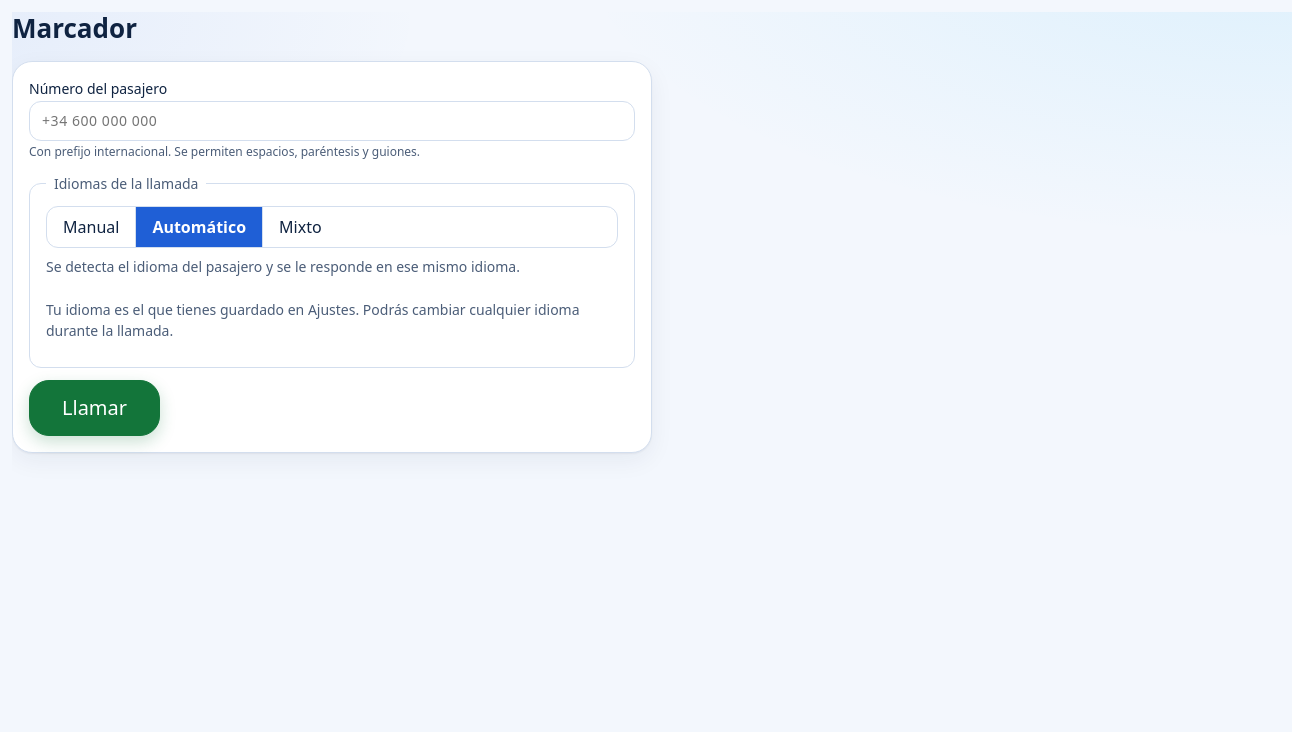
Test: <Dialer> › offers only the languages the catalogue confirms for each role
Click the radio button labelled "Manual" at (92, 226), box [47, 206, 136, 246]
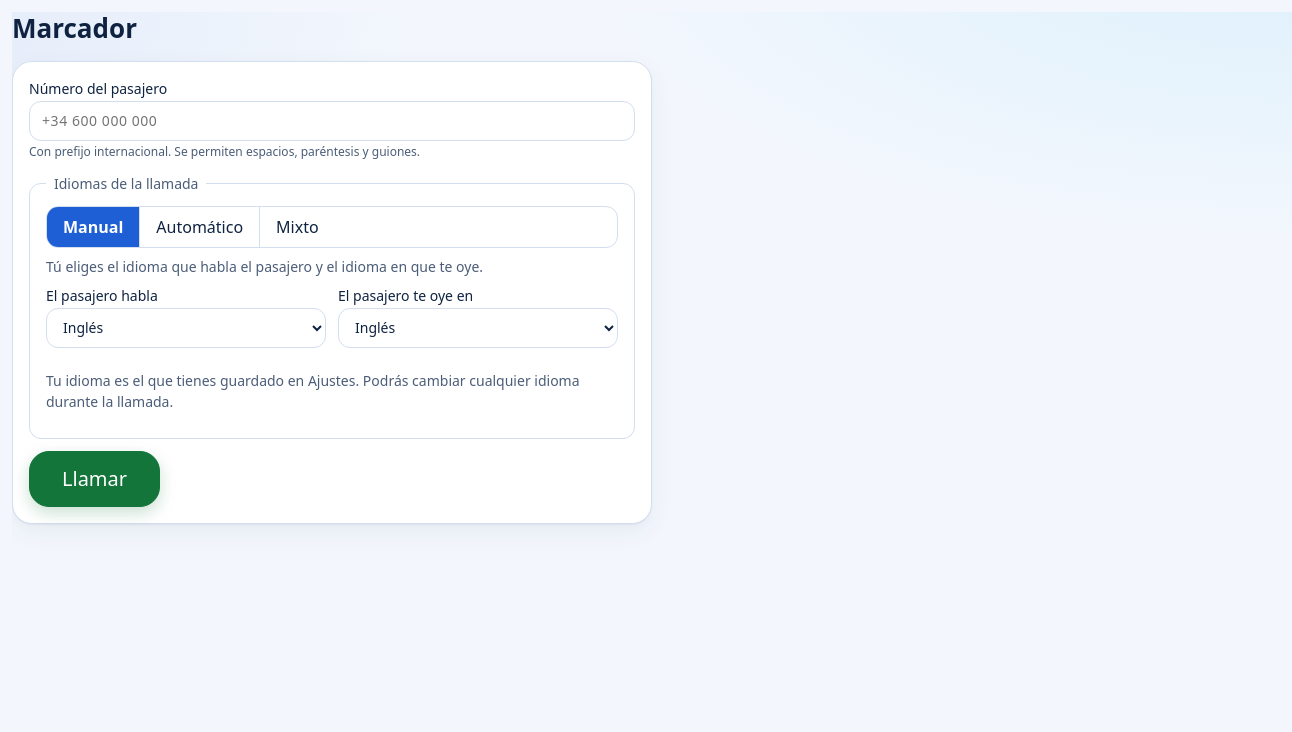
Click the radio button labelled "Mixto" at (297, 226), box [260, 206, 335, 246]
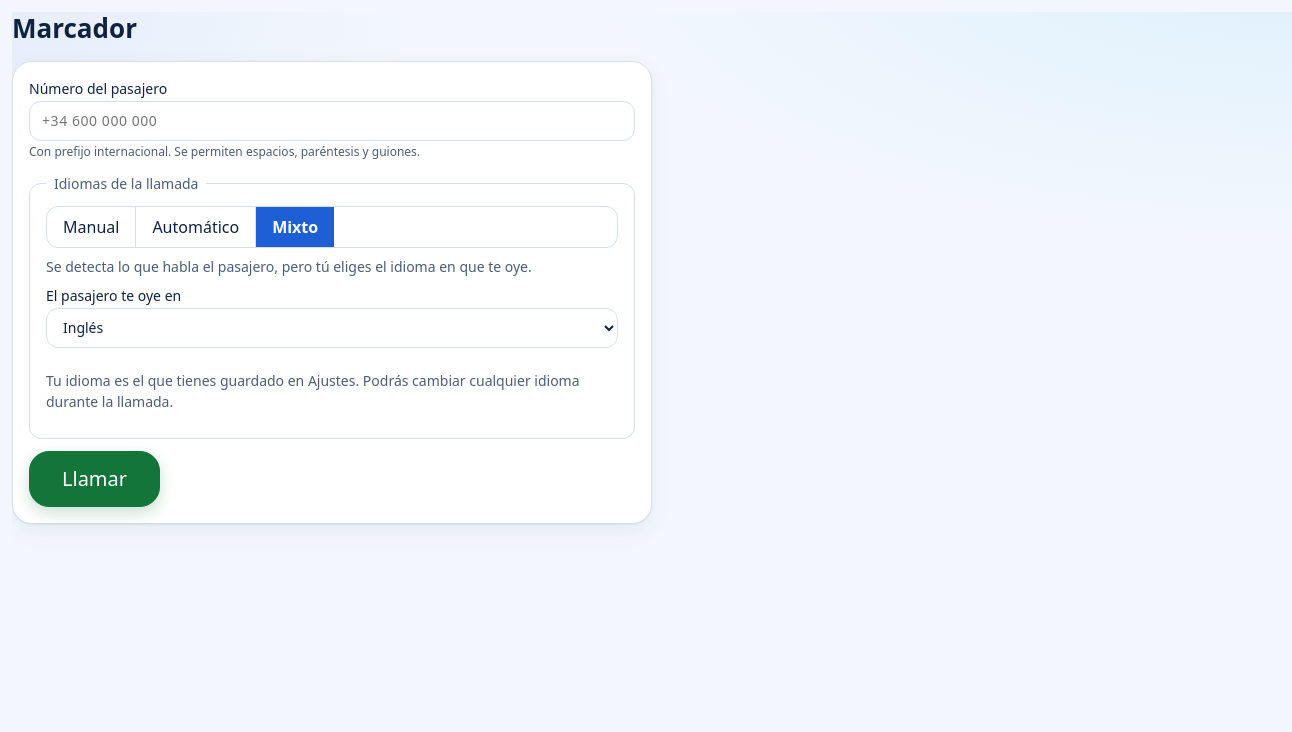
Check: the dropdown labelled "El pasajero te oye en" is shown, box [46, 308, 618, 348]
Check: the text labelled "El pasajero habla" is gone
Click the radio button labelled "Automático" at (196, 226), box [136, 206, 256, 246]
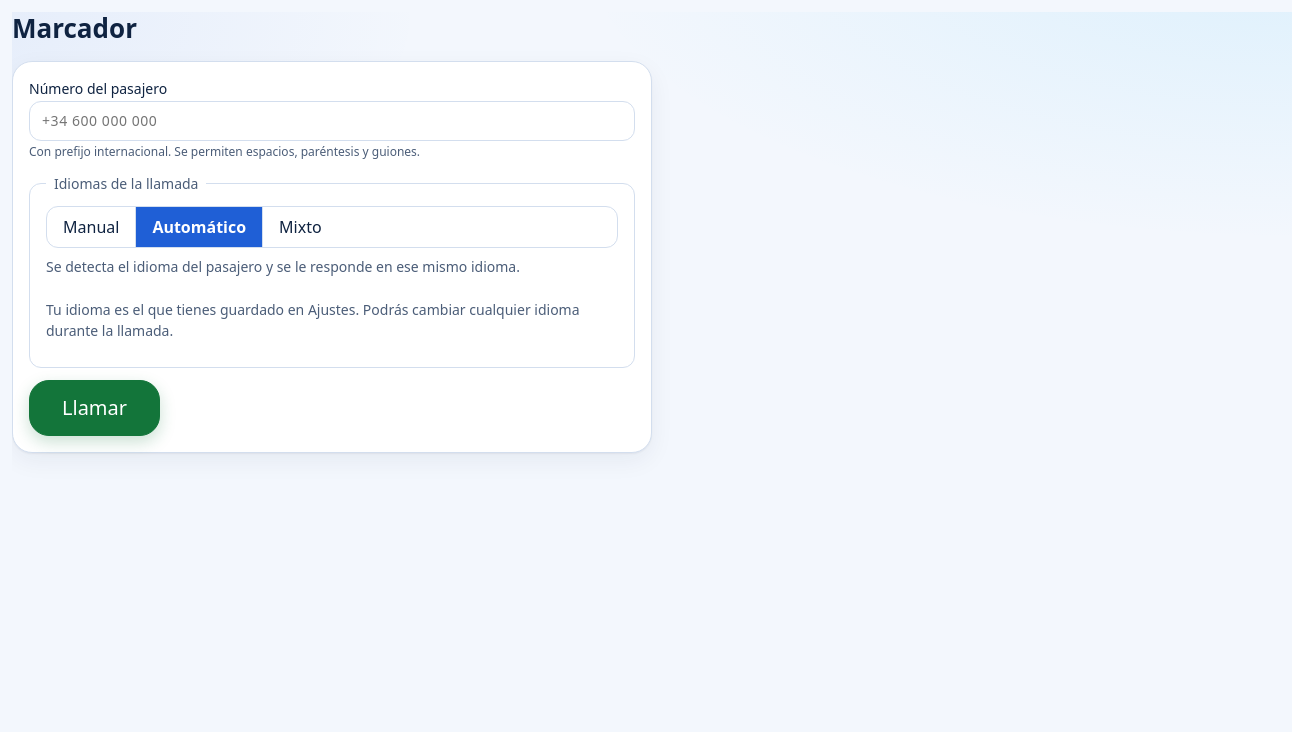
Check: the text labelled "El pasajero te oye en" is gone
